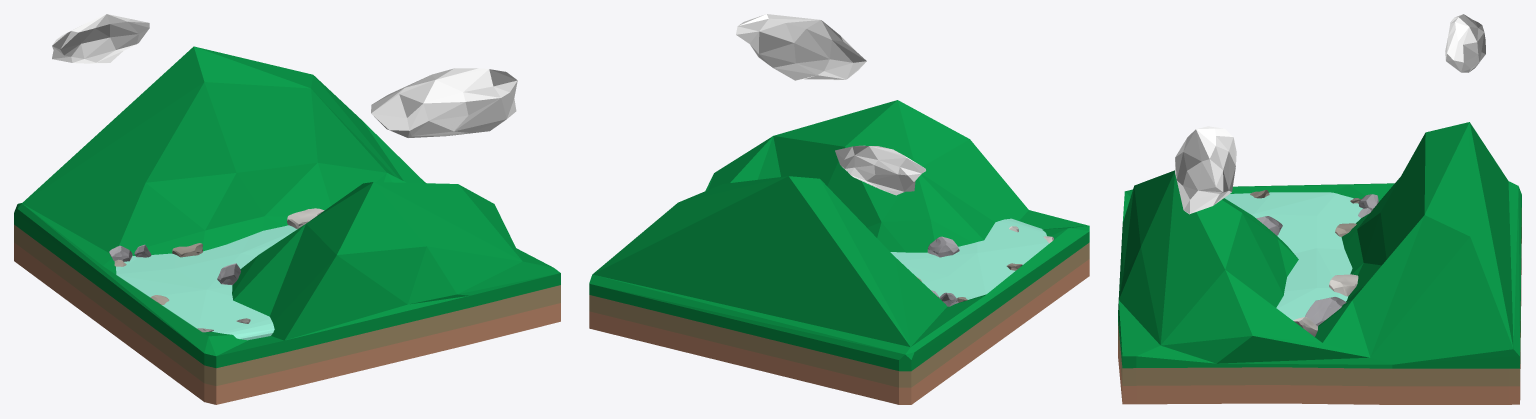
File: 8_Mountain.fbx
3 renders of one model, left to right at view 1: azimuth 30°, elevation 25°; view 2: azimuth 150°, elevation 25°; view 3: azimuth 270°, elevation 25°, orthographic. The views are drawn at different scales.
Visible parts, largest first — view 1: 8_Mountain_Map; view 2: 8_Mountain_Map; view 3: 8_Mountain_Map.
Boxes of the visible parts, bbox=[...] form: 8_Mountain_Map: bbox=[14, 14, 560, 404]; 8_Mountain_Map: bbox=[589, 14, 1089, 404]; 8_Mountain_Map: bbox=[1118, 14, 1521, 404].
Size of the model in its own units: 0.8992 by 0.6083 by 0.9115.
